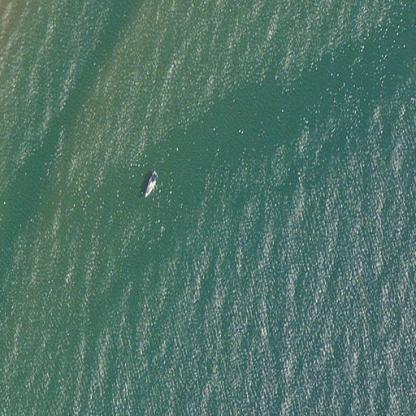ship: (137, 163, 161, 199)
